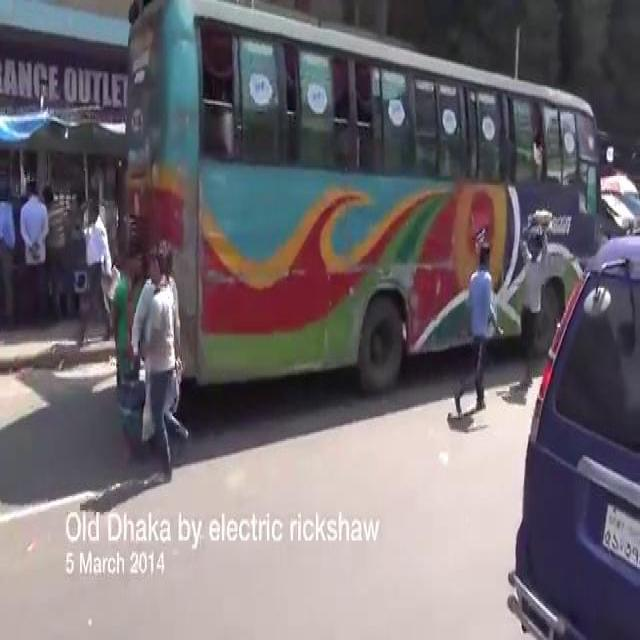bus: (111, 4, 612, 407)
car: (501, 220, 637, 634)
